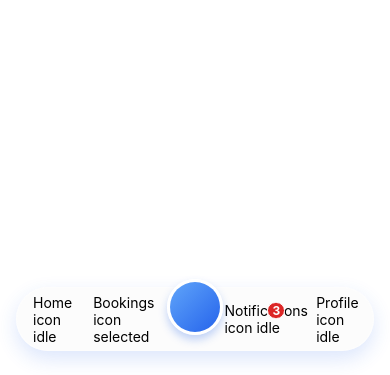
Test: CustomerAnimatedBottomBar › opens the two authenticated choices without changing the selected tab
The image size is (390, 375).
Click the button named "Đặt lịch" at {"x": 195, "y": 307}, box [167,279,223,335]
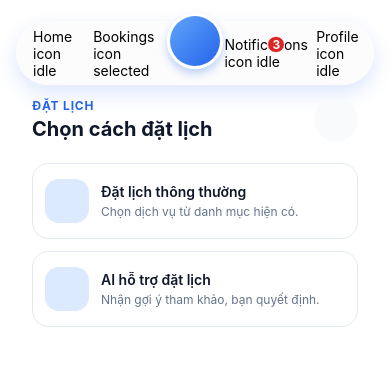
Check: the element with test id "mock-bottom-sheet-modal" is shown
Check: the button "Đặt lịch thông thường Chọn dịch vụ từ danh mục hiện có." is shown, box [32,163,358,239]
Check: the button "AI hỗ trợ đặt lịch Nhận gợi ý tham khảo, bạn quyết định." is shown, box [32,251,358,327]
